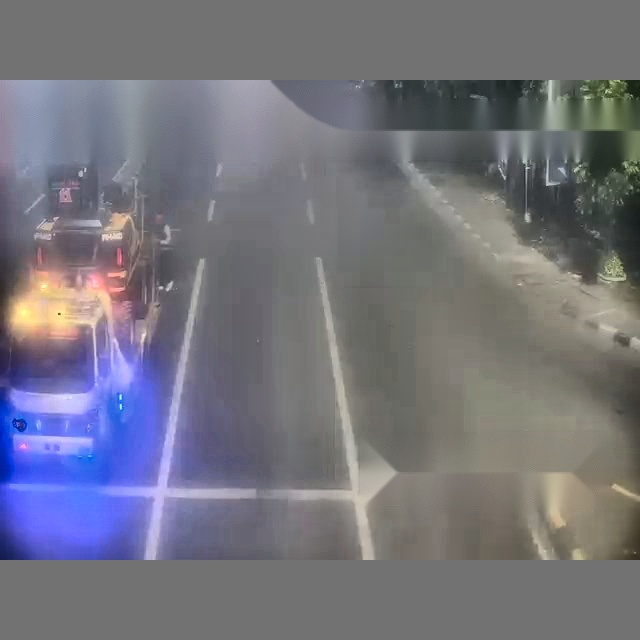Mobil: (0, 212, 174, 557)
